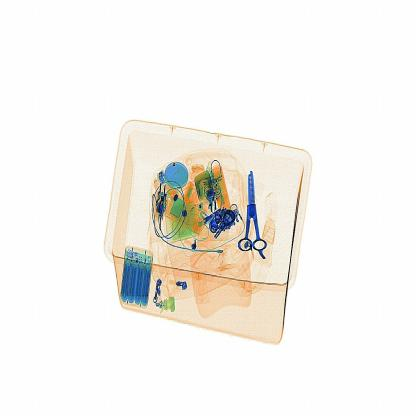gun: (235, 162, 278, 268)
